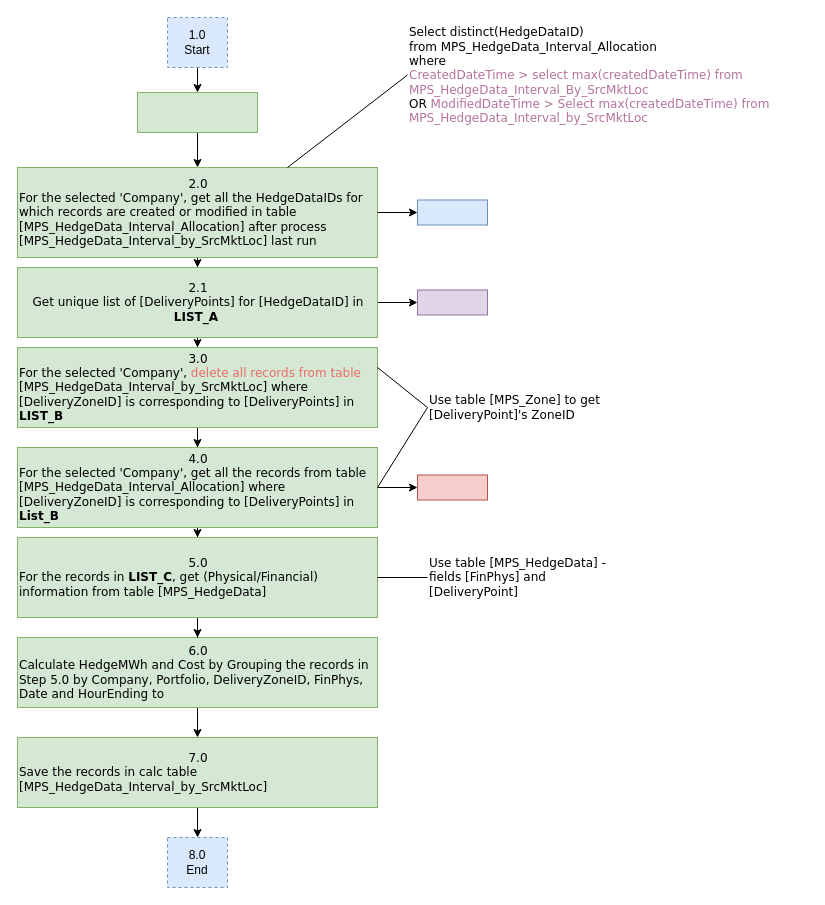
This 825x905 diagram has some shape labels left out. Each missing label, with the box of its shape:
1.1 Input Company: (136, 92, 258, 132)
LIST_A: (416, 199, 488, 225)
LIST_B: (416, 289, 488, 315)
LIST_C: (416, 474, 488, 500)
